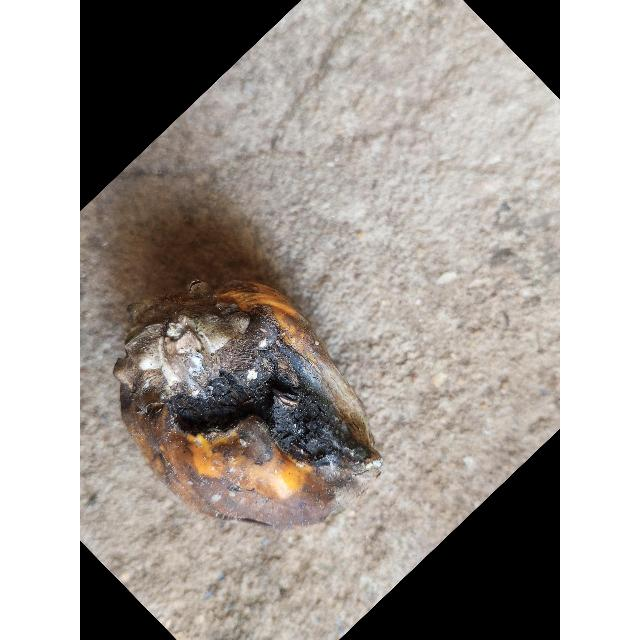damaged: (114, 289, 381, 532)
